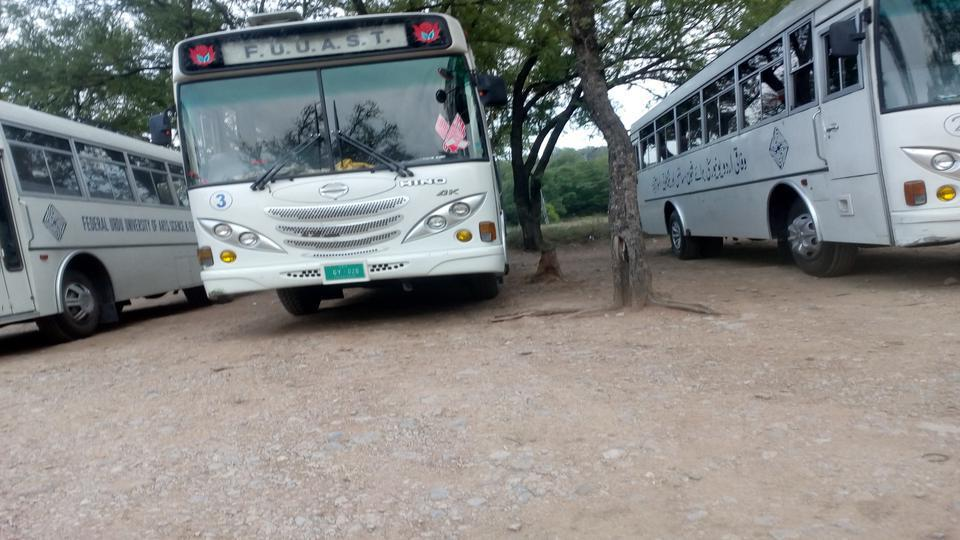NumberPlate: (317, 264, 368, 286)
